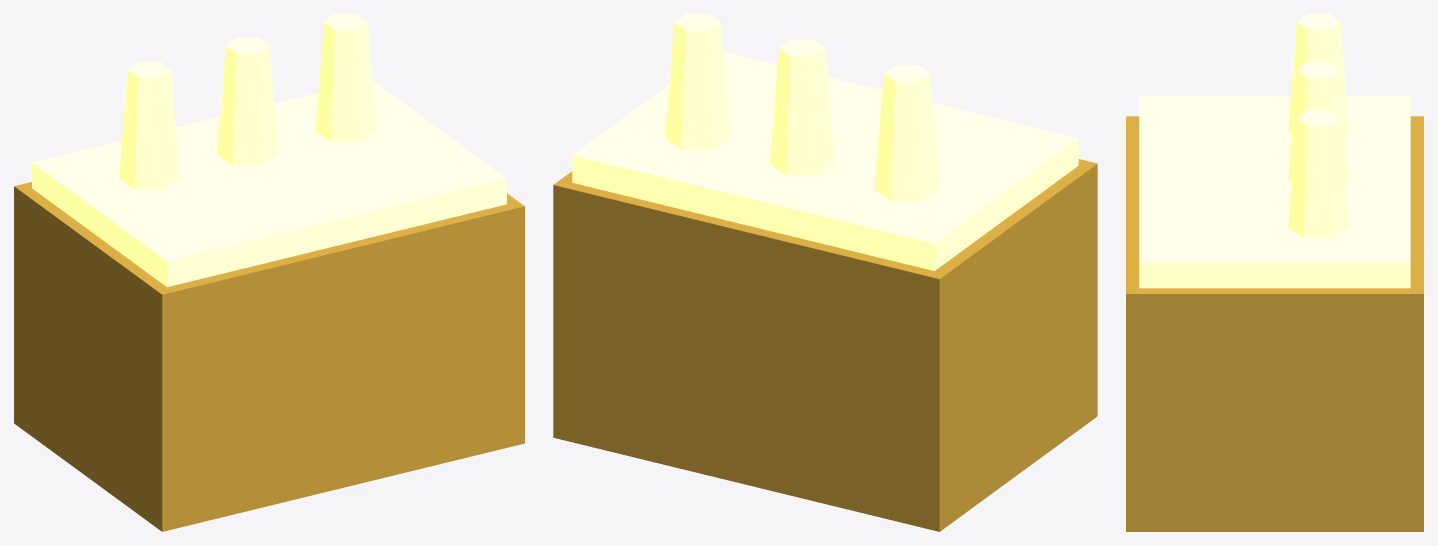
Rendered from prop_ammo_01.glb.
3 renders of one model, left to right at view 1: azimuth 30°, elevation 25°; view 2: azimuth 150°, elevation 25°; view 3: azimuth 270°, elevation 25°, orthographic. The views are drawn at different scales.
Visible parts, largest first — view 1: prop_ammo_01; view 2: prop_ammo_01; view 3: prop_ammo_01.
Part boxes in pixels (left/top/right/bottom): prop_ammo_01: left=14, top=14, right=524, bottom=531; prop_ammo_01: left=553, top=14, right=1097, bottom=531; prop_ammo_01: left=1126, top=14, right=1423, bottom=531.
Size of the model in its own units: 0.48 by 0.47 by 0.34.
